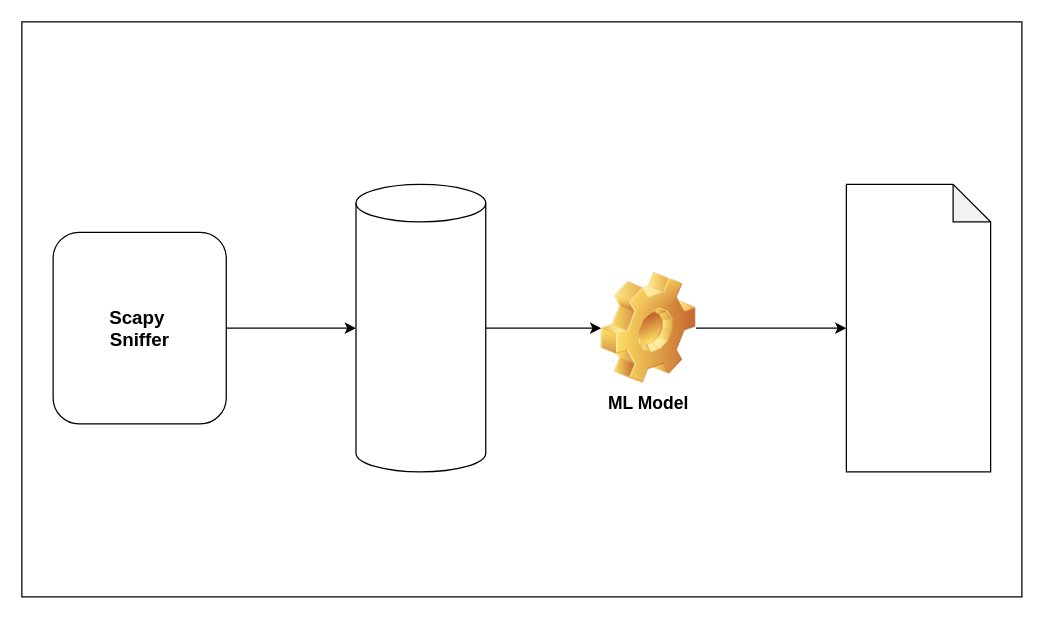
The diagram is 1044 pixels wide and 619 high, and some of its shapes have lost their labels. The shapes that lost their labels are listed below. From the top down, each one's centre as x and y in pixels, then its label:
At (420,327): "Feature Extractor".
At (918,327): "Logger (CSV)".
